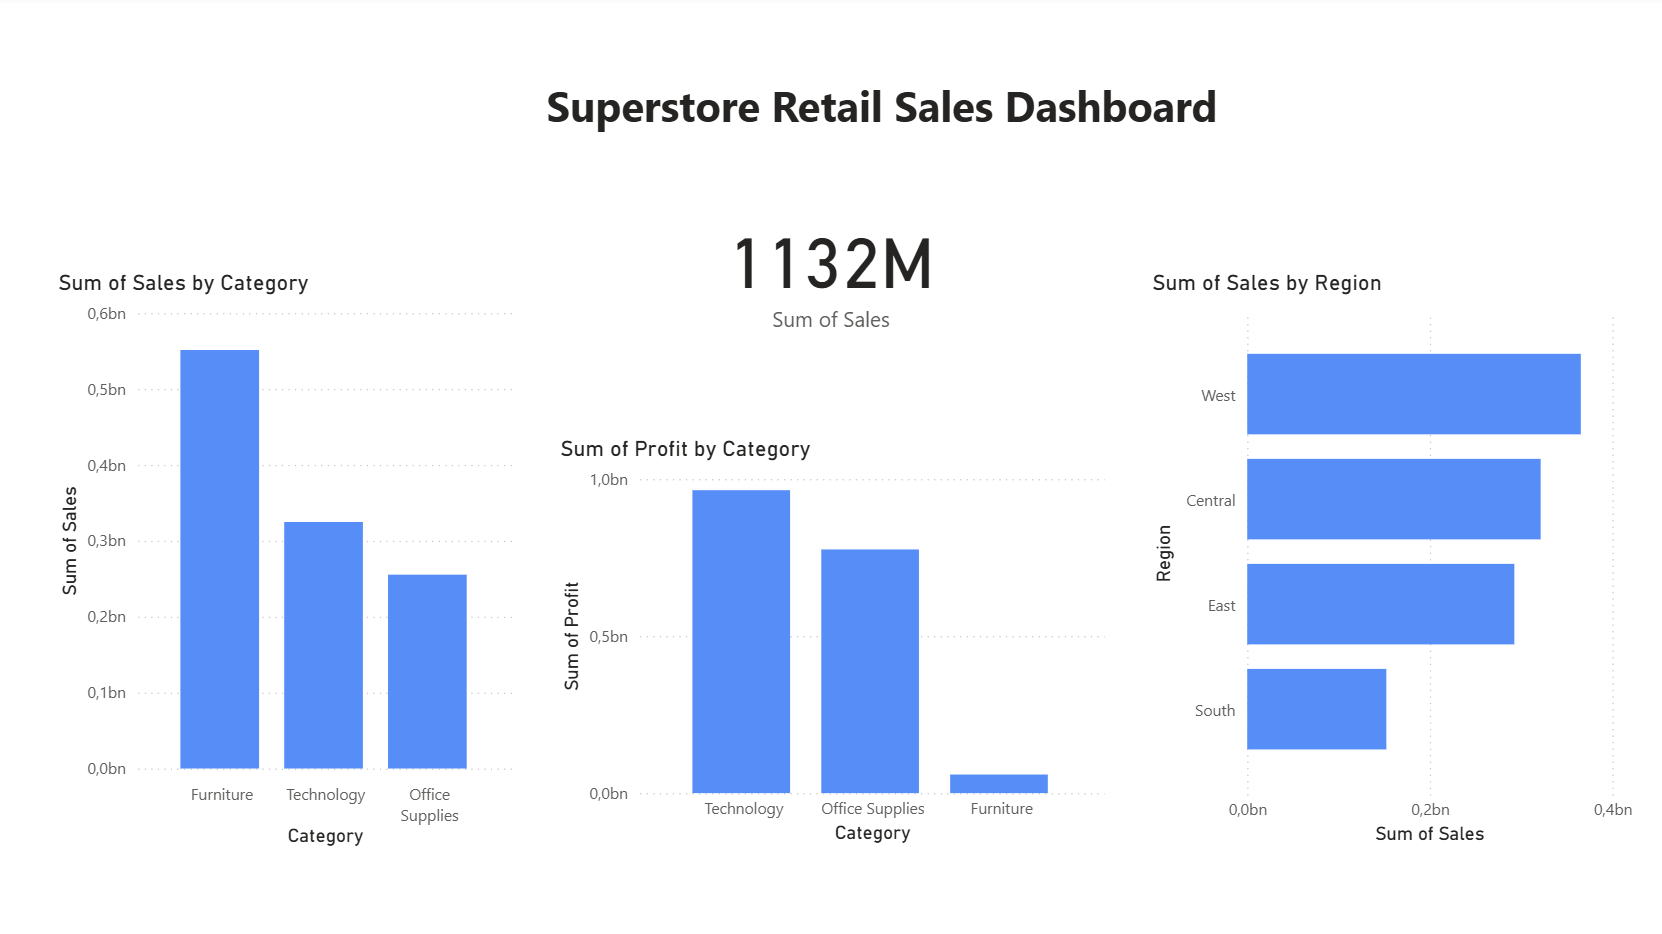

What the dashboard file says about the page in this screenshot:
{"tool":"powerbi","page":{"name":"Page 1","canvas":[1280,720],"ordinal":0},"visuals":[{"type":"clusteredColumnChart","fields":{"Category":["SampleSuperstore.Category"],"Y":["Sum(SampleSuperstore.Sales)"]},"box":[42.5,210.7,357.6,446.1],"z":0},{"type":"card","fields":{"Values":["Sum(SampleSuperstore.Sales)"]},"box":[458.5,129.2,362.9,162.9],"z":1000},{"type":"clusteredBarChart","fields":{"Category":["SampleSuperstore.Region"],"Y":["Sum(SampleSuperstore.Sales)"]},"box":[879.9,210.7,377.1,444.4],"z":2000},{"type":"clusteredColumnChart","fields":{"Category":["SampleSuperstore.Category"],"Y":["Sum(SampleSuperstore.Profit)"]},"box":[426.7,338.1,426.7,316.9],"z":3000},{"type":"textbox","box":[416,58.4,525.8,70.8],"z":4000}]}

Visuals, with their boxes in screenshot pixels (x1, y1, x2, y2), scaled from the page's 1280x720 canvas onto the 1662x934 screenshot:
clusteredColumnChart - SampleSuperstore.Category x Sum(SampleSuperstore.Sales): pyautogui.locateOnScreen(55, 273, 520, 852)
card - Sum(SampleSuperstore.Sales): pyautogui.locateOnScreen(595, 168, 1067, 379)
clusteredBarChart - SampleSuperstore.Region x Sum(SampleSuperstore.Sales): pyautogui.locateOnScreen(1142, 273, 1632, 850)
clusteredColumnChart - SampleSuperstore.Category x Sum(SampleSuperstore.Profit): pyautogui.locateOnScreen(554, 439, 1108, 850)
textbox: pyautogui.locateOnScreen(540, 76, 1223, 168)
